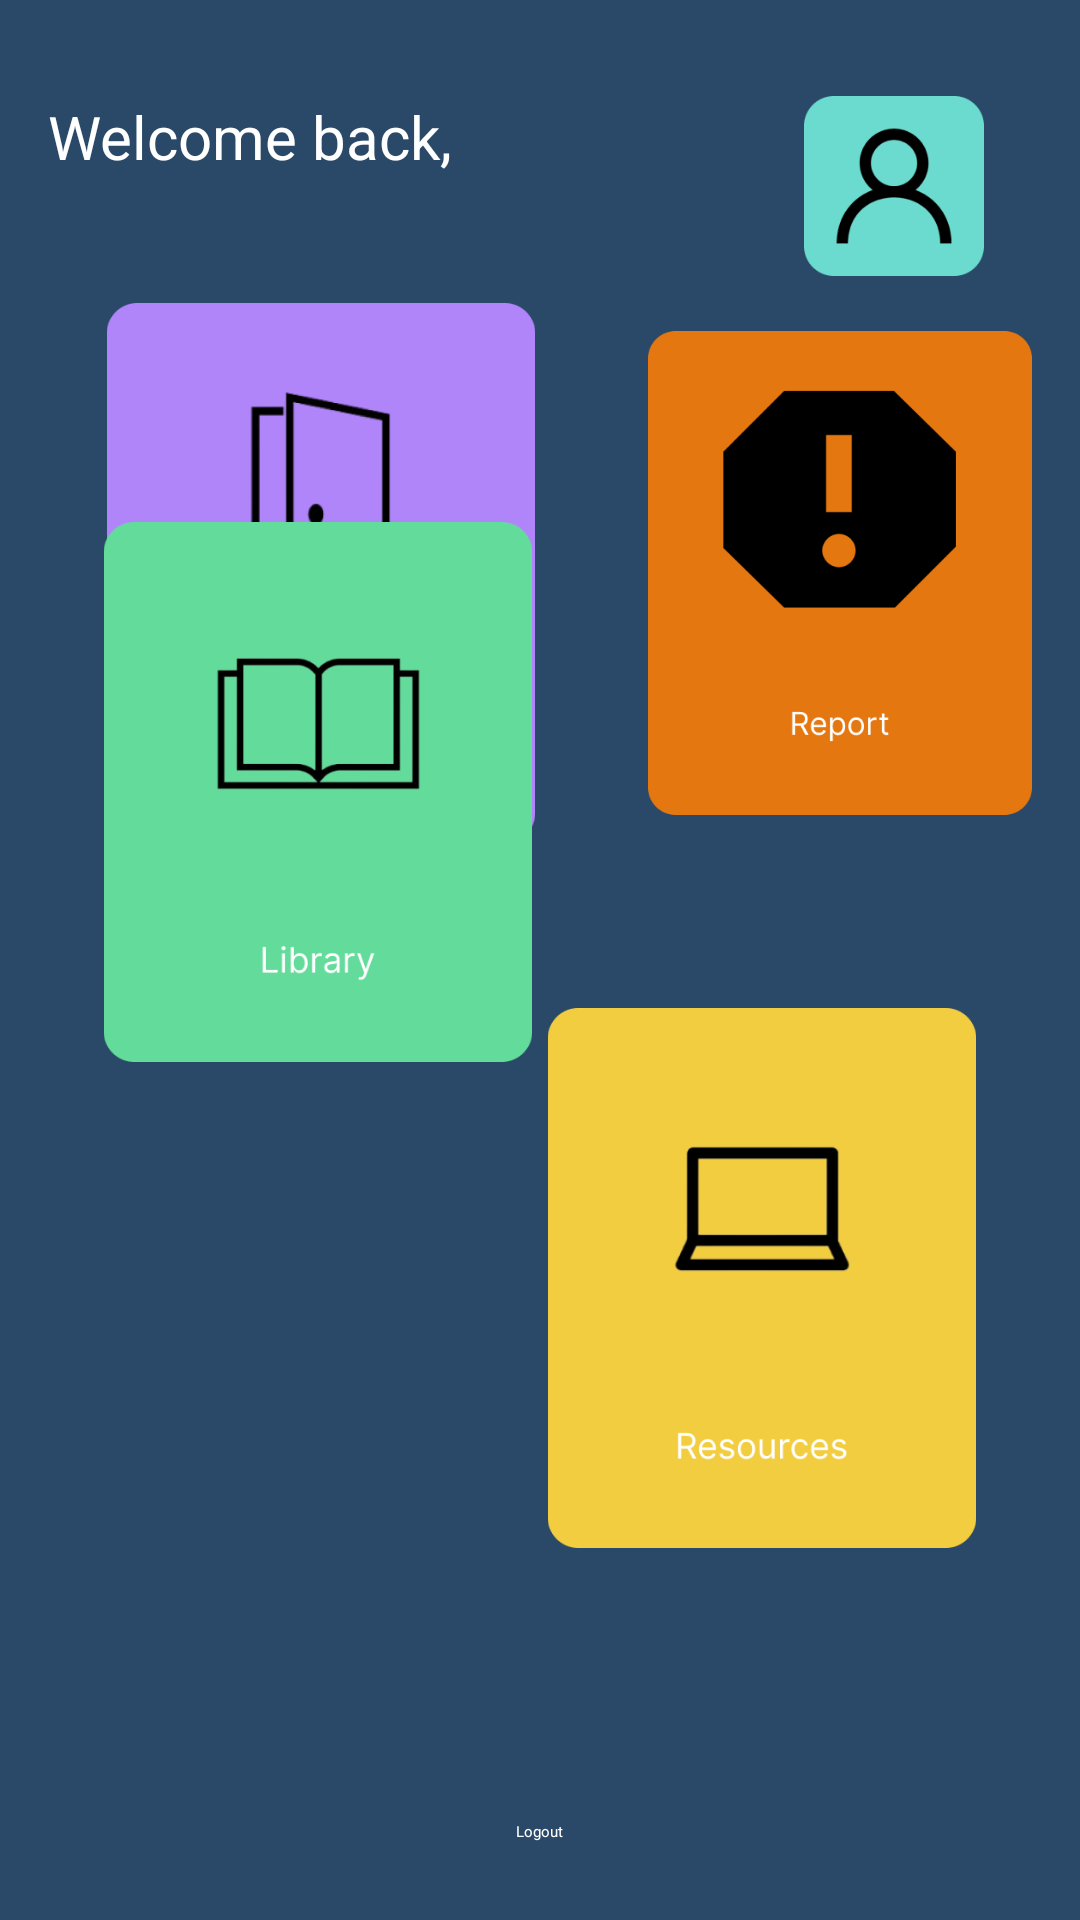

Locate icon controls on the screen. Image size 1080px x 1920px, boxes as (x1, y1, x2, y2).
Profile: (804, 96, 984, 276)
